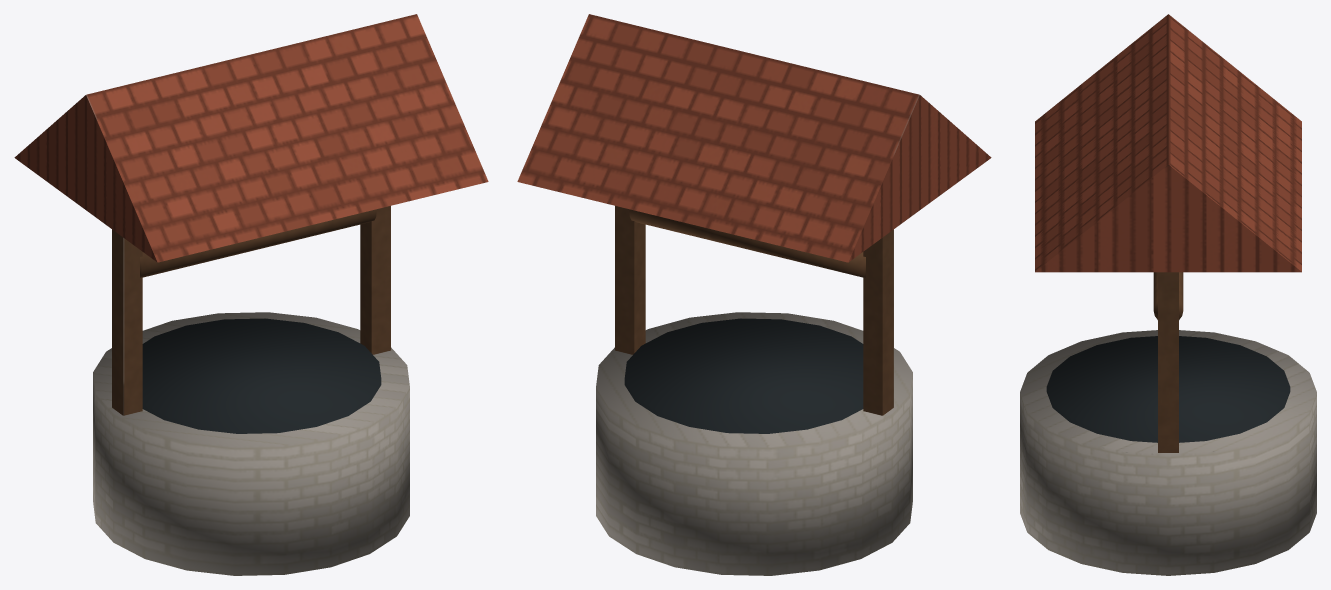
Rendered from well.glb.
3 views of the same model, side by side, from view 1: azimuth 30°, elevation 25°; view 2: azimuth 150°, elevation 25°; view 3: azimuth 270°, elevation 25° (orthographic). The views are drawn at different scales.
Visible parts, largest first — view 1: well; view 2: well; view 3: well.
Part boxes in pixels (<box>): well: <box>14,14,488,575</box>; well: <box>517,14,991,575</box>; well: <box>1020,14,1316,575</box>.
Bounding box in the file's own units: 2.4 × 3.15 × 2.
Materials: 1 (1 with a texture image).
